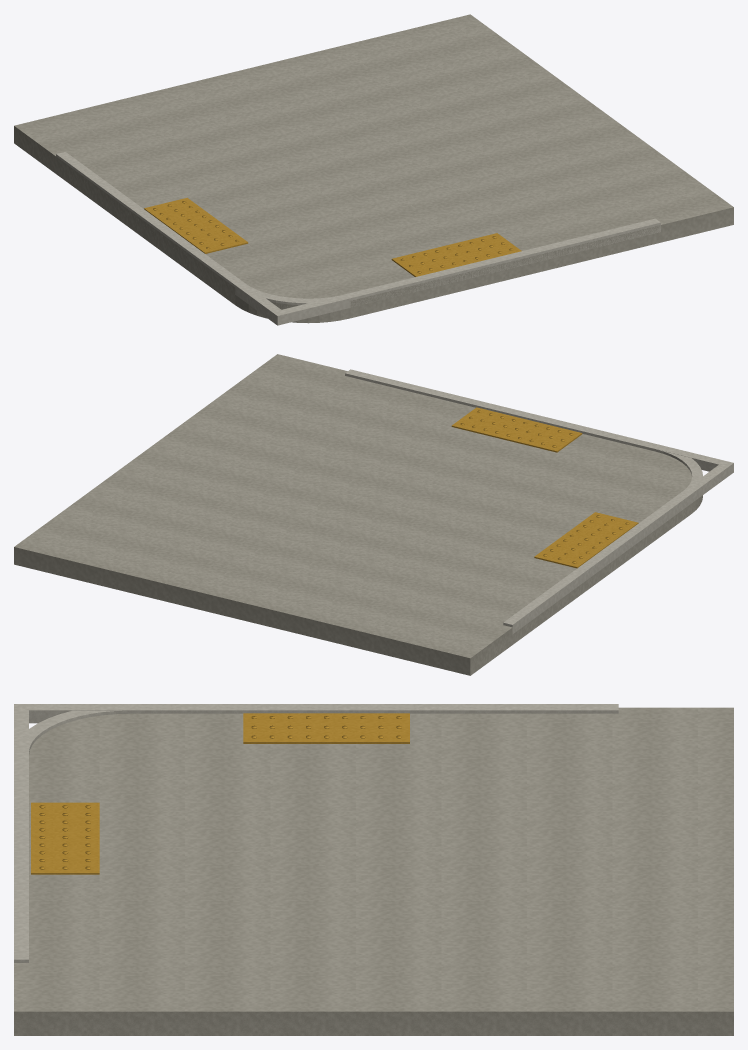
Rendered from PZ_Reusable_Curb_Corner_NE_8x8m.glb.
3 renders of one model, top to bottom at view 1: azimuth 30°, elevation 25°; view 2: azimuth 150°, elevation 25°; view 3: azimuth 270°, elevation 25°, orthographic. The views are drawn at different scales.
Parts seen in each view (by area): view 1: PZ_SIDEWALK_NE_8mCorner, PZ_CURB_NE_SouthEdge, PZ_CURB_NE_WestEdge, PZ_TACTILE_NE_VerticalApproach, PZ_TACTILE_NE_HorizontalApproach; view 2: PZ_SIDEWALK_NE_8mCorner, PZ_CURB_NE_WestEdge, PZ_CURB_NE_SouthEdge, PZ_TACTILE_NE_HorizontalApproach, PZ_TACTILE_NE_VerticalApproach; view 3: PZ_SIDEWALK_NE_8mCorner, PZ_CURB_NE_WestEdge, PZ_TACTILE_NE_VerticalApproach, PZ_TACTILE_NE_HorizontalApproach, PZ_CURB_NE_SouthEdge, PZ_CURB_NE_RoundedReturn.
Part boxes in pixels (<box>): PZ_SIDEWALK_NE_8mCorner: <box>14,14,733,323</box>; PZ_CURB_NE_SouthEdge: <box>272,218,660,325</box>; PZ_CURB_NE_WestEdge: <box>56,152,286,325</box>; PZ_TACTILE_NE_VerticalApproach: <box>144,197,248,253</box>; PZ_TACTILE_NE_HorizontalApproach: <box>391,233,521,276</box>; PZ_SIDEWALK_NE_8mCorner: <box>14,354,702,675</box>; PZ_CURB_NE_WestEdge: <box>503,460,733,633</box>; PZ_CURB_NE_SouthEdge: <box>345,369,733,471</box>; PZ_TACTILE_NE_HorizontalApproach: <box>451,407,582,452</box>; PZ_TACTILE_NE_VerticalApproach: <box>534,512,638,568</box>; PZ_SIDEWALK_NE_8mCorner: <box>14,707,733,1035</box>; PZ_CURB_NE_WestEdge: <box>14,704,618,723</box>; PZ_TACTILE_NE_VerticalApproach: <box>243,713,409,743</box>; PZ_TACTILE_NE_HorizontalApproach: <box>31,802,99,874</box>; PZ_CURB_NE_SouthEdge: <box>14,704,28,962</box>; PZ_CURB_NE_RoundedReturn: <box>29,710,129,753</box>.
Bounding box in the file's own units: 8 × 0.337 × 8.
3 materials, 3 textured.
